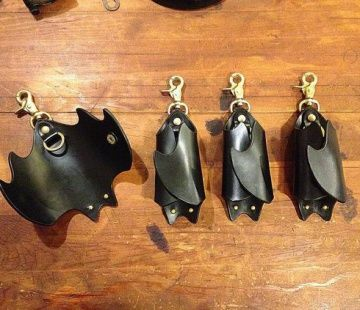cuero: (1, 106, 345, 226)
